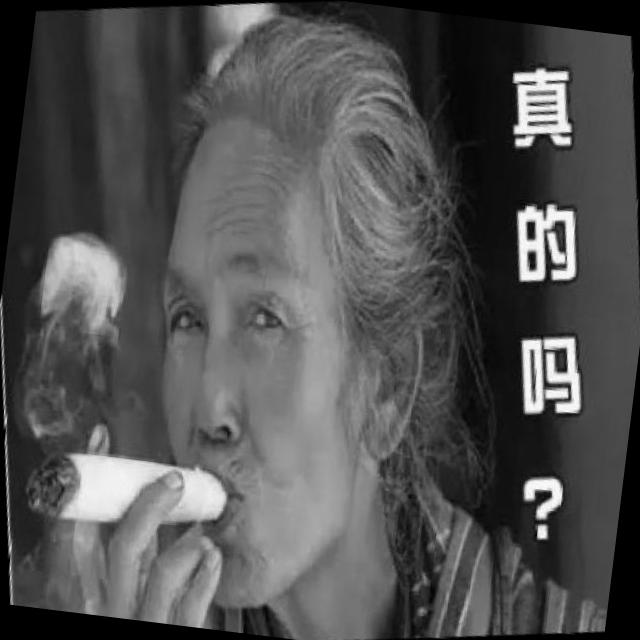smoke: (11, 416, 238, 556)
